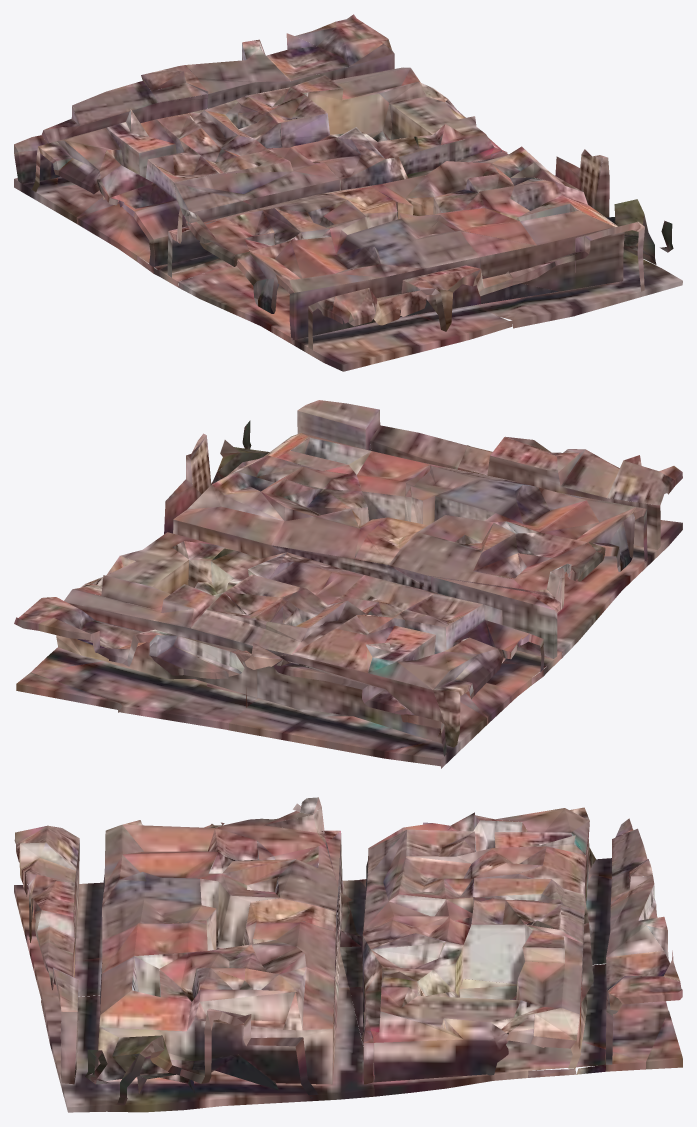
3 renders of one model, top to bottom at view 1: azimuth 30°, elevation 25°; view 2: azimuth 150°, elevation 25°; view 3: azimuth 270°, elevation 25°, orthographic. The views are drawn at different scales.
Visible parts, largest first — view 1: Mesh_0; view 2: Mesh_0; view 3: Mesh_0.
Boxes of the visible parts, x1=… form: Mesh_0: x1=14, y1=14, x2=682, y2=371; Mesh_0: x1=14, y1=400, x2=682, y2=768; Mesh_0: x1=14, y1=797, x2=682, y2=1112.
Size of the model in its own units: 133 by 28.72 by 165.
2 materials, 2 textured.
